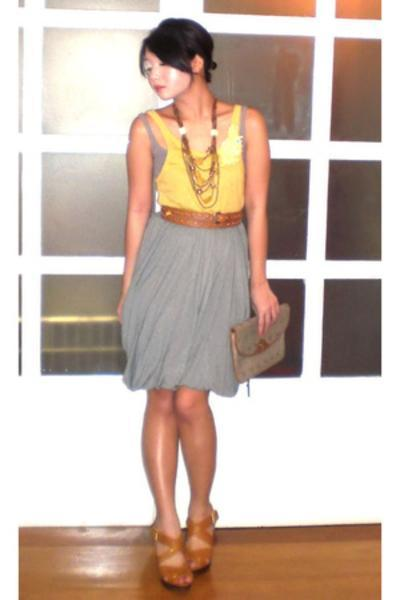shoe: (132, 519, 213, 582)
skirt: (108, 111, 250, 402)
